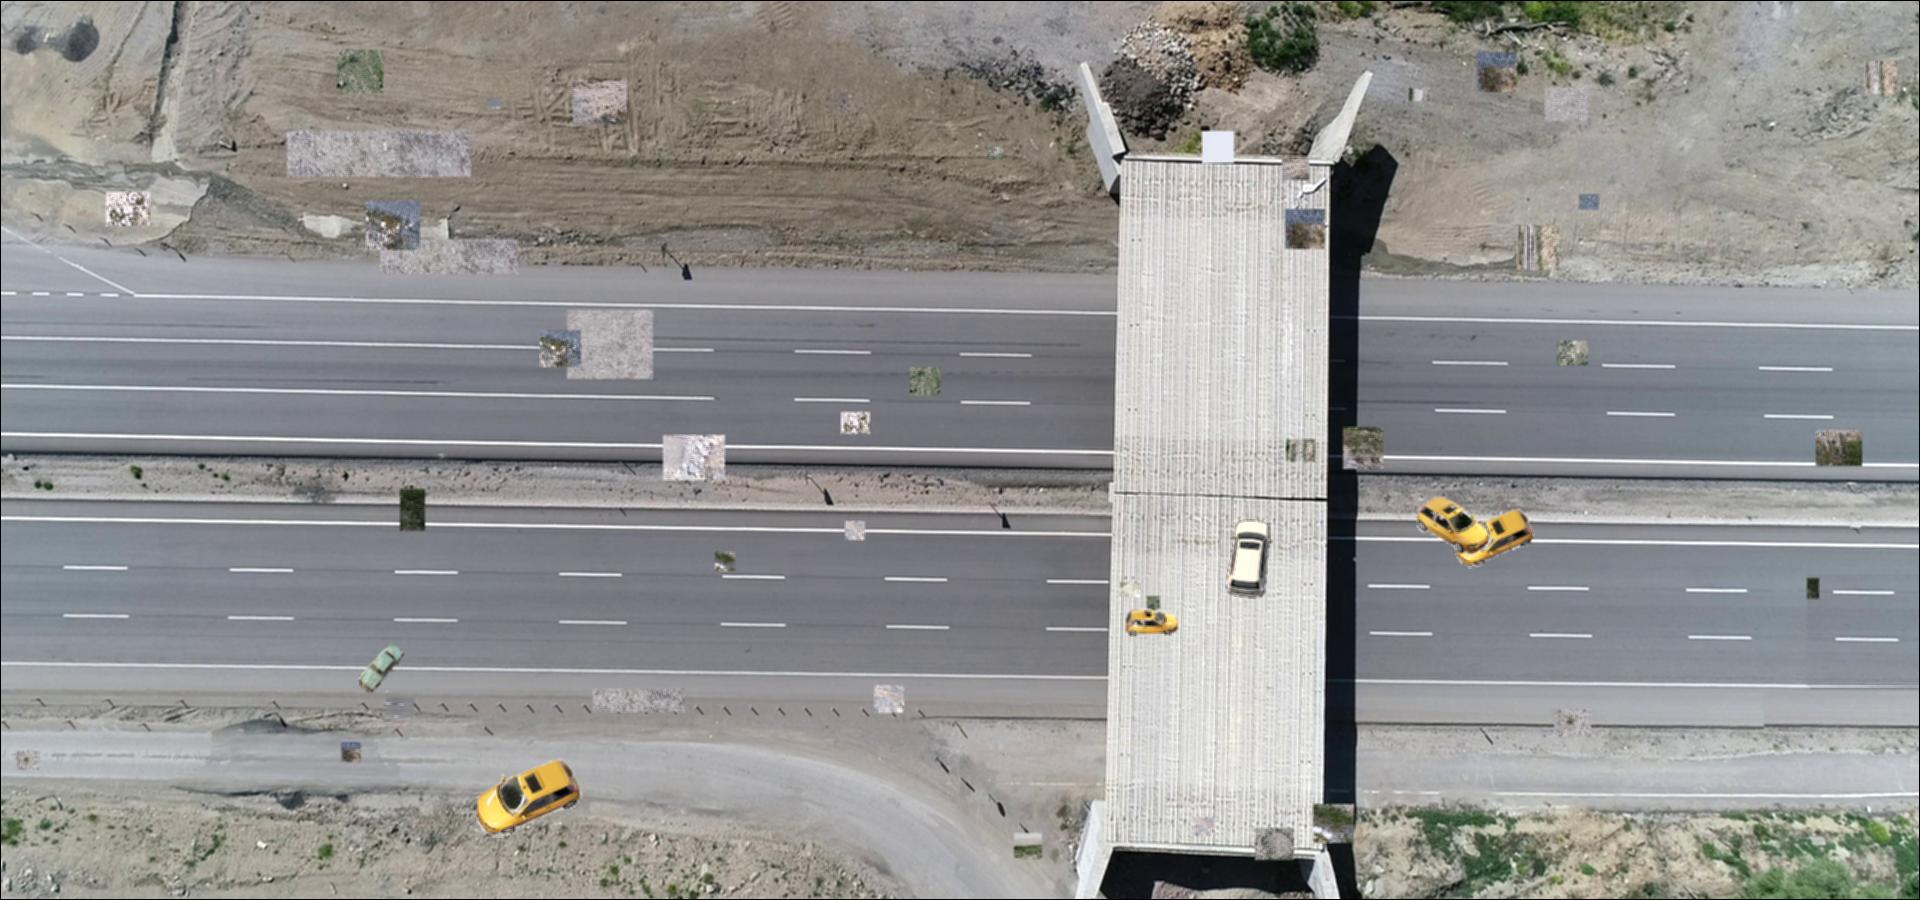arac: (478, 756, 584, 839), (1456, 506, 1536, 569), (1417, 495, 1490, 555), (1223, 518, 1273, 598), (359, 640, 405, 692), (1127, 609, 1179, 637)
